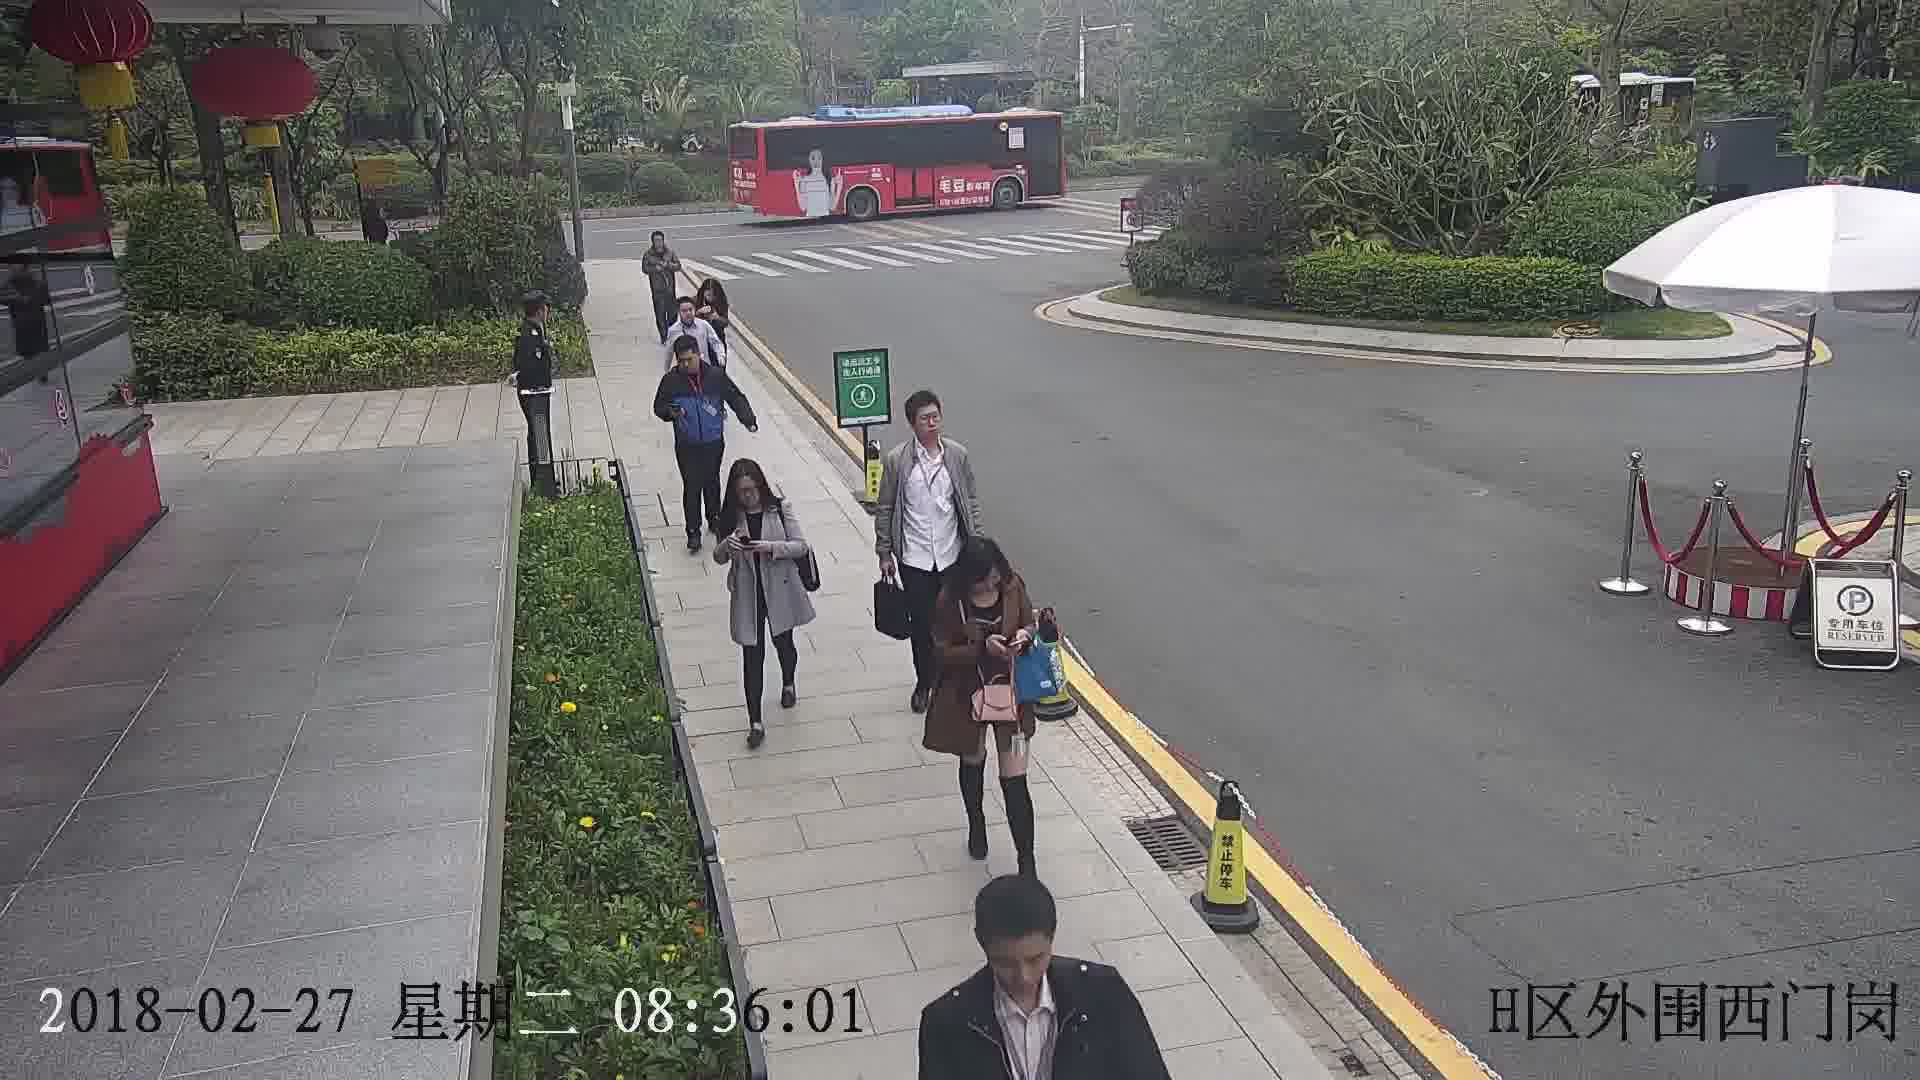face: (986, 931, 1048, 993), (906, 400, 947, 442)
person: (920, 875, 1133, 1030), (939, 533, 1033, 623), (883, 388, 971, 475), (715, 457, 793, 530), (662, 332, 724, 385), (516, 291, 556, 349), (668, 295, 718, 336), (643, 228, 676, 261)
